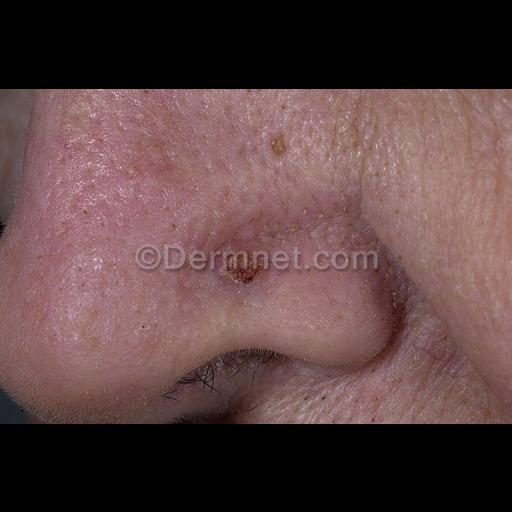Skin_Lesion: (255, 216, 357, 246), (64, 191, 114, 233), (224, 260, 262, 294), (112, 164, 154, 186), (270, 134, 290, 156), (96, 88, 124, 102)
